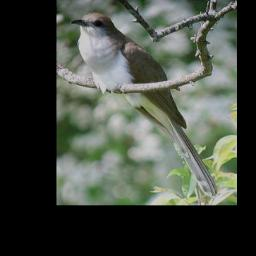Cuckoo: (71, 11, 221, 198)
